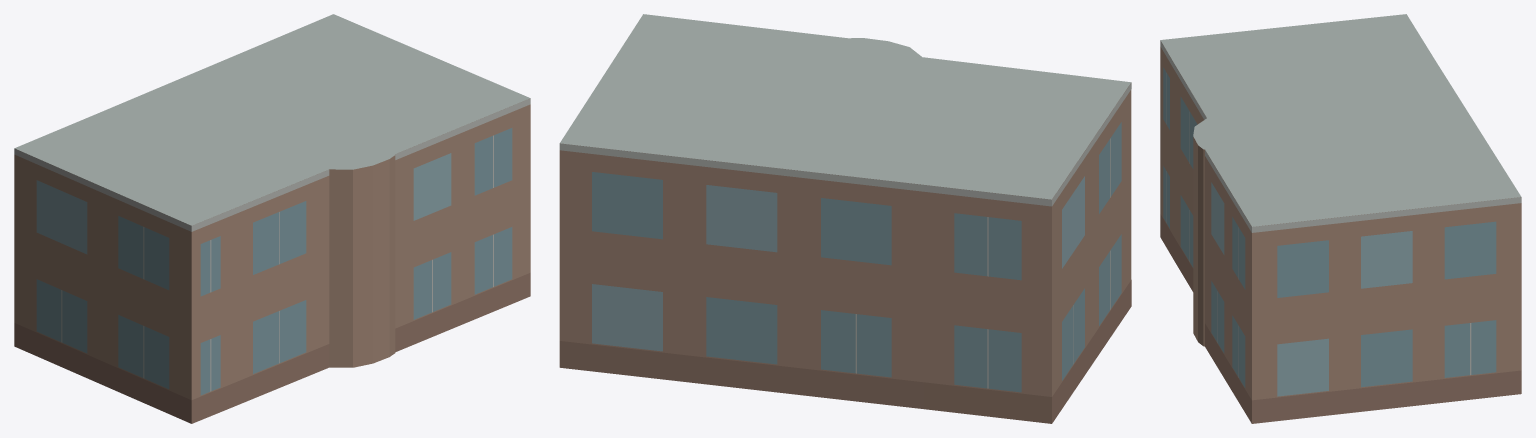
File: survey-upis-32624081.glb
The picture shows the model from 3 angles, left to right: view 1: azimuth 30°, elevation 25°; view 2: azimuth 150°, elevation 25°; view 3: azimuth 270°, elevation 25°; orthographic projection. The views are drawn at different scales.
Parts seen in each view (by area): view 1: survey-upis-32624081.tmp; view 2: survey-upis-32624081.tmp; view 3: survey-upis-32624081.tmp.
Part boxes in pixels (<box>): survey-upis-32624081.tmp: <box>14,14,530,423</box>; survey-upis-32624081.tmp: <box>559,14,1131,423</box>; survey-upis-32624081.tmp: <box>1160,14,1521,423</box>.
Bounding box in the file's own units: 18.32 × 7.9 × 13.14.
